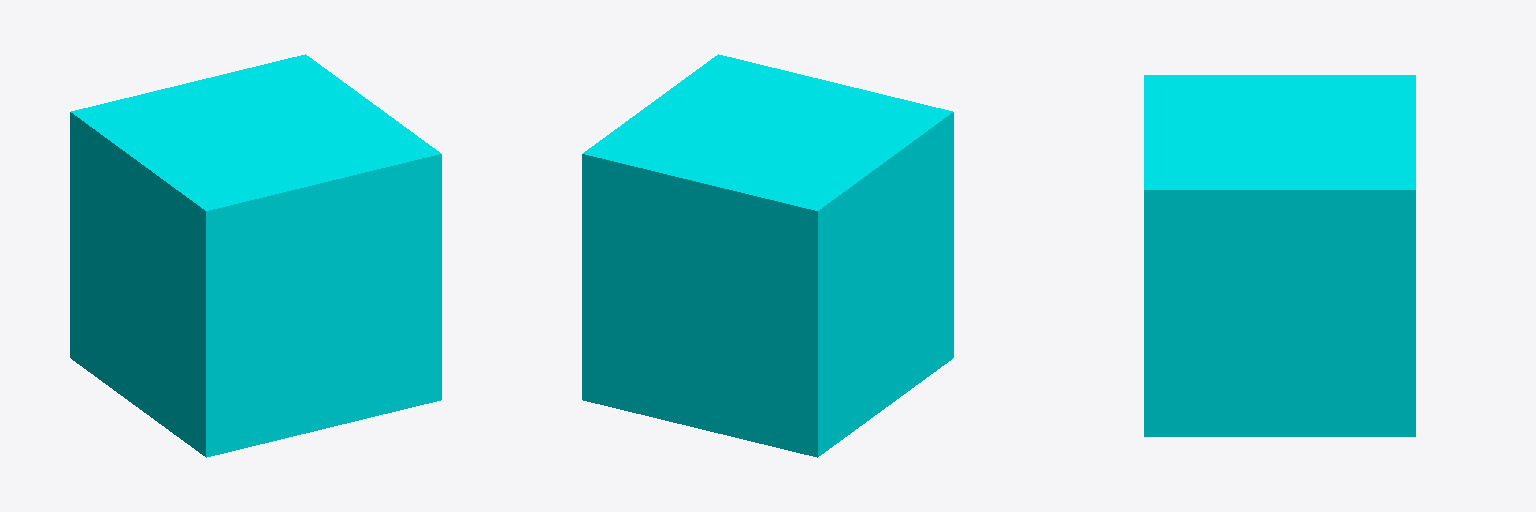
3 views of the same model, side by side, from view 1: azimuth 30°, elevation 25°; view 2: azimuth 150°, elevation 25°; view 3: azimuth 270°, elevation 25° (orthographic).
Visible parts, largest first — view 1: Box001; view 2: Box001; view 3: Box001.
Boxes of the visible parts, box(x1,y1,x2,y2) form: Box001: box(70, 54, 441, 457); Box001: box(582, 54, 953, 457); Box001: box(1144, 75, 1415, 436).
Size of the model in its own units: 2 by 2 by 2.
Materials: 1 (1 with a texture image).